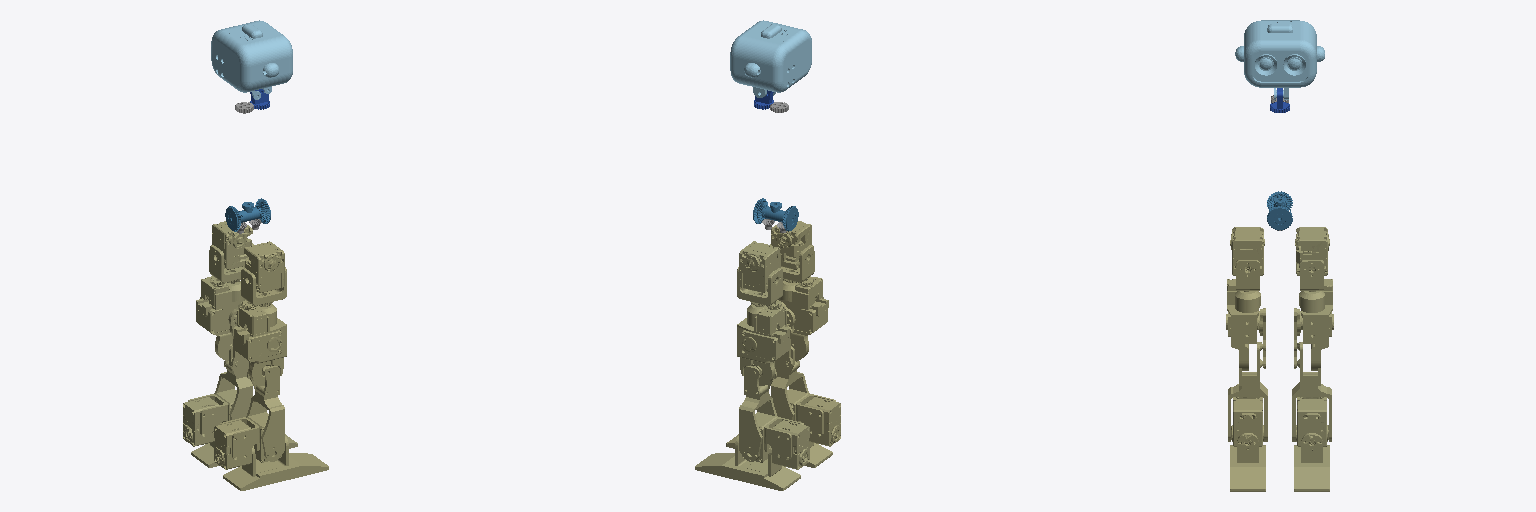
--- What the picture shows (computed from the rendered views, not written in the file) ---
Views: 3 orthographic renders of the robot side by side, from view 1: azimuth 30°, elevation 25°; view 2: azimuth 150°, elevation 25°; view 3: azimuth 270°, elevation 25°.
Robot: toddlerbot — 17 links, 16 joints (16 revolute); root link torso; default pose: all joints at 0.
Visible links, largest first — view 1: right_leg_reorder, left_leg_reorder, head, waist_gears; view 2: left_leg_reorder, right_leg_reorder, head, waist_gears; view 3: left_leg_reorder, right_leg_reorder, head, waist_gears.
Link boxes in pixels (bbox=[...]): right_leg_reorder: bbox=[214, 241, 328, 490]; left_leg_reorder: bbox=[183, 221, 297, 467]; head: bbox=[211, 20, 292, 92]; waist_gears: bbox=[225, 198, 270, 231]; left_leg_reorder: bbox=[695, 241, 809, 490]; right_leg_reorder: bbox=[726, 221, 840, 467]; head: bbox=[730, 20, 811, 97]; waist_gears: bbox=[753, 198, 798, 231]; left_leg_reorder: bbox=[1292, 227, 1333, 491]; right_leg_reorder: bbox=[1226, 227, 1267, 491]; head: bbox=[1235, 20, 1324, 99]; waist_gears: bbox=[1267, 191, 1292, 230].
Bounding box of the posed robot: 0.138 × 0.1251 × 0.5614 m (x, y, z).
13 mesh visuals loaded from 17 distinct referenced files (13 binary STL); not drawn: 4 (reference not matched to a file when rendering).

URDF robot description (toddlerbot):
<?xml version="1.0" ?><robot name="toddlerbot">  
  <link name="torso">    
    <visual>      
      <origin xyz="0 0 0" rpy="0 -0 0"/>      
      <geometry>        
        <mesh filename="package:///meshes/torso_visual.stl"/>        
      </geometry>      
      <material name="torso_material">        
        <color rgba="0.63761324738265878764 0.79140018897832431488 0.89744804913511877498 1.0"/>        
      </material>      
    </visual>    
    <collision>      
      <origin xyz="0 0 0" rpy="0 -0 0"/>      
      <geometry>        
        <mesh filename="package:///meshes/torso_collision.stl"/>        
      </geometry>      
    </collision>    
    <inertial>      
      <origin xyz="-0.0045319089141771552731 -0.0033046849194455856467 0.065594108502290693341" rpy="0 0 0"/>      
      <mass value="1.1369659631012025702"/>      
      <inertia ixx="0.0029825917743578666055" ixy="8.1730614288441110122e-05" ixz="2.1951370741857685305e-05" iyy="0.0023969506399989372152" iyz="-2.9575017351927617657e-05" izz="0.0025126356523908575241"/>      
    </inertial>    
  </link>  

  <link name="spur_1m_20t">    
    <visual>      
      <origin xyz="0 0 0" rpy="0 -0 0"/>      
      <geometry>        
        <mesh filename="package:///meshes/spur_1m_20t_visual.stl"/>        
      </geometry>      
      <material name="spur_1m_20t_material">        
        <color rgba="0.64705882352941179736 0.64705882352941179736 0.64705882352941179736 1.0"/>        
      </material>      
    </visual>    
    <collision>      
      <origin xyz="0 0 0" rpy="0 -0 0"/>      
      <geometry>        
        <mesh filename="package:///meshes/spur_1m_20t_collision.stl"/>        
      </geometry>      
    </collision>    
    <inertial>      
      <origin xyz="-2.9273600019542193503e-19 -8.407168954226882874e-18 0.003384232105434467619" rpy="0 0 0"/>      
      <mass value="0.0015778025963745997712"/>      
      <inertia ixx="4.5874424196602084909e-08" ixy="3.9290914639085633501e-24" ixz="-7.1097175513400442172e-39" iyy="4.5874424196602058439e-08" iyz="7.8419015231486113446e-38" izz="8.1737050837173876176e-08"/>      
    </inertial>    
  </link>  

  <joint name="neck_yaw_drive" type="revolute">    
    <origin xyz="-0.0049999999999995221878 3.1860588521011854095e-18 0.12148651076281755112" rpy="1.1607298201443905188e-14 1.6509758832059179101e-15 -5.3832337592600790636e-15"/>    
    <parent link="torso"/>    
    <child link="spur_1m_20t"/>    
    <axis xyz="0 0 1"/>    
    <limit effort="1" velocity="20" lower="-2.8797932657906435416" upper="2.8797932657906435416"/>    
    <joint_properties friction="0.0"/>    
  </joint>  

  <link name="neck_yaw_link_v2">    
    <visual>      
      <origin xyz="0 0 0" rpy="0 -0 0"/>      
      <geometry>        
        <mesh filename="package:///meshes/neck_yaw_link_v2_visual.stl"/>        
      </geometry>      
      <material name="neck_yaw_link_v2_material">        
        <color rgba="0.2313725490196078538 0.38039215686274507888 0.70588235294117662733 1.0"/>        
      </material>      
    </visual>    
    <collision>      
      <origin xyz="0 0 0" rpy="0 -0 0"/>      
      <geometry>        
        <mesh filename="package:///meshes/neck_yaw_link_v2_collision.stl"/>        
      </geometry>      
    </collision>    
    <inertial>      
      <origin xyz="-1.1403990895369493244e-06 -1.1841855614897924462e-10 0.0082571849701004972066" rpy="0 0 0"/>      
      <mass value="0.0067298837334394089049"/>      
      <inertia ixx="5.2266067624768086445e-07" ixy="-6.3046403327810586846e-15" ixz="1.1949403084466817268e-09" iyy="6.1218519979556588152e-07" iyz="-2.6012871962819705841e-15" izz="2.8062851709981924551e-07"/>      
    </inertial>    
  </link>  

  <link name="head">    
    <visual>      
      <origin xyz="0 0 0" rpy="0 -0 0"/>      
      <geometry>        
        <mesh filename="package:///meshes/head_visual.stl"/>        
      </geometry>      
      <material name="head_material">        
        <color rgba="0.62873939703496806164 0.79364291305093481732 0.87330110949792516539 1.0"/>        
      </material>      
    </visual>    
    <collision>      
      <origin xyz="0 0 0" rpy="0 -0 0"/>      
      <geometry>        
        <mesh filename="package:///meshes/head_collision.stl"/>        
      </geometry>      
    </collision>    
    <inertial>      
      <origin xyz="-0.045316002313821462932 -0.011276855645191824137 -0.0010251236602530945652" rpy="0 0 0"/>      
      <mass value="0.13722101760550831084"/>      
      <inertia ixx="0.000118808072940447212" ixy="1.1390016804751208719e-06" ixz="1.8378816154934639505e-06" iyy="0.00010489076115432989294" iyz="-9.2536559812160098181e-06" izz="9.1894624061612158465e-05"/>      
    </inertial>    
  </link>  

  <link name="motor_plate">    
    <visual>      
      <origin xyz="0 0 0" rpy="0 -0 0"/>      
      <geometry>        
        <mesh filename="package:///meshes/motor_plate_visual.stl"/>        
      </geometry>      
      <material name="motor_plate_material">        
        <color rgba="0.64705882352941179736 0.64705882352941179736 0.64705882352941179736 1.0"/>        
      </material>      
    </visual>    
    <collision>      
      <origin xyz="0 0 0" rpy="0 -0 0"/>      
      <geometry>        
        <mesh filename="package:///meshes/motor_plate_collision.stl"/>        
      </geometry>      
    </collision>    
    <inertial>      
      <origin xyz="-6.9388939039072283776e-18 -1.3877787807814456755e-17 -0.0028281768943845498818" rpy="0 0 0"/>      
      <mass value="0.0017000000000000001221"/>      
      <inertia ixx="4.805029073310371698e-08" ixy="1.0773753257370504076e-09" ixz="-3.1068233712543829119e-36" iyy="5.1782428339099010347e-08" iyz="8.7873943139860781386e-38" izz="9.2194729037862249329e-08"/>      
    </inertial>    
  </link>  

  <link name="bearing_683">    
    <visual>      
      <origin xyz="0 0 0" rpy="0 -0 0"/>      
      <geometry>        
        <mesh filename="package:///meshes/bearing_683_visual.stl"/>        
      </geometry>      
      <material name="bearing_683_material">        
        <color rgba="0.64705882352941179736 0.64705882352941179736 0.64705882352941179736 1.0"/>        
      </material>      
    </visual>    
    <collision>      
      <origin xyz="0 0 0" rpy="0 -0 0"/>      
      <geometry>        
        <mesh filename="package:///meshes/bearing_683_collision.stl"/>        
      </geometry>      
    </collision>    
    <inertial>      
      <origin xyz="1.3985108750766809383e-17 2.4186774283164997703e-19 -0.0015499999999999995118" rpy="0 0 0"/>      
      <mass value="0.00048694686130641793437"/>      
      <inertia ixx="2.1551456503319895657e-09" ixy="2.9047882901138312047e-26" ixz="-1.1228933808335255921e-37" iyy="2.1551456503319883249e-09" iyz="-1.3368752562953336429e-37" izz="3.5303647444715322361e-09"/>      
    </inertial>    
  </link>  

  <joint name="neck_pitch_front_rev_2" type="revolute">    
    <origin xyz="-0.0019411428382689055461 -0.0072444436971680192111 -0.0055000000000000005482" rpy="1.0718125710358602429e-14 -4.311384292830508141e-15 0.88076594287798393168"/>    
    <parent link="motor_plate"/>    
    <child link="bearing_683"/>    
    <axis xyz="0 0 1"/>    
    <limit effort="1" velocity="20" lower="-6.283185307179586232" upper="6.283185307179586232"/>    
    <joint_properties friction="0.0"/>    
  </joint>  

  <link name="bearing_683_2">    
    <visual>      
      <origin xyz="0 0 0" rpy="0 -0 0"/>      
      <geometry>        
        <mesh filename="package:///meshes/bearing_683_2_visual.stl"/>        
      </geometry>      
      <material name="bearing_683_2_material">        
        <color rgba="0.64705882352941179736 0.64705882352941179736 0.64705882352941179736 1.0"/>        
      </material>      
    </visual>    
    <collision>      
      <origin xyz="0 0 0" rpy="0 -0 0"/>      
      <geometry>        
        <mesh filename="package:///meshes/bearing_683_2_collision.stl"/>        
      </geometry>      
    </collision>    
    <inertial>      
      <origin xyz="1.3985108750766830954e-17 2.4186774283160303249e-19 -0.0015499999999999990782" rpy="0 0 0"/>      
      <mass value="0.00048694686130641793437"/>      
      <inertia ixx="2.1551456503319879113e-09" ixy="-2.1975945182776963045e-25" ixz="-2.7042340431588615727e-39" iyy="2.1551456503319883249e-09" iyz="2.2478231163415180367e-39" izz="3.5303647444715305817e-09"/>      
    </inertial>    
  </link>  

  <joint name="neck_pitch_back_rev_2" type="revolute">    
    <origin xyz="0.0019411428382688777905 0.007244443697168007068 -0.0055000000000000014155" rpy="-2.5111971789710972494e-13 -1.8026647498047445117e-13 0.87787101658584032471"/>    
    <parent link="motor_plate"/>    
    <child link="bearing_683_2"/>    
    <axis xyz="0 0 1"/>    
    <limit effort="1" velocity="20" lower="-6.283185307179586232" upper="6.283185307179586232"/>    
    <joint_properties friction="0.0"/>    
  </joint>  

  <joint name="neck_pitch_act" type="revolute">    
    <origin xyz="-0.032615697718560709983 -0.027000000000000058675 0.0024999999999998486974" rpy="-3.1415926535897655825 -3.1199051560142798919e-13 -3.141592653589449835"/>    
    <parent link="head"/>    
    <child link="motor_plate"/>    
    <axis xyz="0 0 1"/>    
    <limit effort="1" velocity="20" lower="-1.3962634015954635824" upper="0.61086523819801530344"/>    
    <joint_properties friction="0.0"/>    
  </joint>  

  <joint name="neck_pitch" type="revolute">    
    <origin xyz="-1.1796119636642288242e-16 0.0040000000000001215139 0.019400000000000056088" rpy="-1.5707963267904627713 1.5671692223466835436 -3.1415926535886637971"/>    
    <parent link="neck_yaw_link_v2"/>    
    <child link="head"/>    
    <axis xyz="0 0 1"/>    
    <limit effort="1" velocity="20" lower="-1.3962634015954635824" upper="0.61086523819801530344"/>    
    <joint_properties friction="0.0"/>    
  </joint>  

  <link name="neck_rod">    
    <visual>      
      <origin xyz="0 0 0" rpy="0 -0 0"/>      
      <geometry>        
        <mesh filename="package:///meshes/neck_rod_visual.stl"/>        
      </geometry>      
      <material name="neck_rod_material">        
        <color rgba="0.62051618944235187314 0.78640765248647570562 0.88594253031295011613 1.0"/>        
      </material>      
    </visual>    
    <collision>      
      <origin xyz="0 0 0" rpy="0 -0 0"/>      
      <geometry>        
        <mesh filename="package:///meshes/neck_rod_collision.stl"/>        
      </geometry>      
    </collision>    
    <inertial>      
      <origin xyz="0.017942953356019489264 -4.2302323070087306963e-05 -0.0016023848482628068844" rpy="0 0 0"/>      
      <mass value="0.0031629468613064174939"/>      
      <inertia ixx="1.6183187611801101548e-08" ixy="4.3686324090029618003e-10" ixz="5.4098718288322473511e-10" iyy="7.9430220338147421456e-07" iyz="-1.2754318974832872697e-12" izz="8.0573905690508686904e-07"/>      
    </inertial>    
  </link>  

  <joint name="neck_pitch_front_rev_1" type="revolute">    
    <origin xyz="-0.0072444436971684355447 -0.0040000000000001197792 0.017458857161731233809" rpy="1.5707963267946454256 -0.88439304732584833602 -3.1415926535894400651"/>    
    <parent link="neck_yaw_link_v2"/>    
    <child link="neck_rod"/>    
    <axis xyz="0 0 1"/>    
    <limit effort="1" velocity="20" lower="-6.283185307179586232" upper="6.283185307179586232"/>    
    <joint_properties friction="0.0"/>    
  </joint>  

  <link name="neck_rod_2">    
    <visual>      
      <origin xyz="0 0 0" rpy="0 -0 0"/>      
      <geometry>        
        <mesh filename="package:///meshes/neck_rod_2_visual.stl"/>        
      </geometry>      
      <material name="neck_rod_2_material">        
        <color rgba="0.62051618944235187314 0.78640765248647570562 0.88594253031295011613 1.0"/>        
      </material>      
    </visual>    
    <collision>      
      <origin xyz="0 0 0" rpy="0 -0 0"/>      
      <geometry>        
        <mesh filename="package:///meshes/neck_rod_2_collision.stl"/>        
      </geometry>      
    </collision>    
    <inertial>      
      <origin xyz="0.017901072327984525467 4.2302323074025779774e-05 -0.0016023848482717029801" rpy="0 0 0"/>      
      <mass value="0.0031629468613064174939"/>      
      <inertia ixx="1.6183187611802534225e-08" ixy="-4.3584354918256844597e-10" ixz="5.3972445329300678928e-10" iyy="7.9343818800628575981e-07" iyz="1.2754318717552505803e-12" izz="8.0487504152986580352e-07"/>      
    </inertial>    
  </link>  

  <joint name="neck_pitch_back_rev_1" type="revolute">    
    <origin xyz="0.0072444436971682013571 -0.0040000000000001362591 0.021341142838269100412" rpy="1.5707963267949220931 -0.8814981210337055062 3.1415926535897904515"/>    
    <parent link="neck_yaw_link_v2"/>    
    <child link="neck_rod_2"/>    
    <axis xyz="0 0 1"/>    
    <limit effort="1" velocity="20" lower="-6.283185307179586232" upper="6.283185307179586232"/>    
    <joint_properties friction="0.0"/>    
  </joint>  

  <joint name="neck_yaw_driven" type="revolute">    
    <origin xyz="0.016000000000000621364 3.9122381713629107253e-19 0.12248651076281739936" rpy="1.5470695466536949876e-14 -3.0902695541116811913e-15 -8.6007558735577539147e-16"/>    
    <parent link="torso"/>    
    <child link="neck_yaw_link_v2"/>    
    <axis xyz="0 0 1"/>    
    <limit effort="1" velocity="20" lower="-2.6179938779914944114" upper="2.6179938779914944114"/>    
    <joint_properties friction="0.0"/>    
  </joint>  

  <link name="waist_gears">    
    <visual>      
      <origin xyz="0 0 0" rpy="0 -0 0"/>      
      <geometry>        
        <mesh filename="package:///meshes/waist_gears_visual.stl"/>        
      </geometry>      
      <material name="waist_gears_material">        
        <color rgba="0.29673072126509869584 0.50090014891145351328 0.63316042503557934396 1.0"/>        
      </material>      
    </visual>    
    <collision>      
      <origin xyz="0 0 0" rpy="0 -0 0"/>      
      <geometry>        
        <mesh filename="package:///meshes/waist_gears_collision.stl"/>        
      </geometry>      
    </collision>    
    <inertial>      
      <origin xyz="-2.9089024309418600146e-07 5.5035553755051287407e-08 -0.012592985430860502774" rpy="0 0 0"/>      
      <mass value="0.026337180140419174518"/>      
      <inertia ixx="1.5367047941033374527e-06" ixy="1.8828487088222486339e-11" ixz="4.0600521957845183714e-10" iyy="7.302471227545066429e-06" iyz="3.2911737843456854381e-12" izz="6.9859065635059637868e-06"/>      
    </inertial>    
  </link>  

  <link name="waist_link">    
    <visual>      
      <origin xyz="0 0 0" rpy="0 -0 0"/>      
      <geometry>        
        <mesh filename="package:///meshes/waist_link_visual.stl"/>        
      </geometry>      
      <material name="waist_link_material">        
        <color rgba="0.64205964988973096563 0.77112878115803895618 0.80455743168009152821 1.0"/>        
      </material>      
    </visual>    
    <collision>      
      <origin xyz="0 0 0" rpy="0 -0 0"/>      
      <geometry>        
        <mesh filename="package:///meshes/waist_link_collision.stl"/>        
      </geometry>      
    </collision>    
    <inertial>      
      <origin xyz="-3.4876747961162537906e-18 -0.024647143936897920186 -0.024243097328499937232" rpy="0 0 0"/>      
      <mass value="0.10819999998618363979"/>      
      <inertia ixx="4.747970073566886237e-05" ixy="-9.3811587245404559892e-21" ixz="-5.6250747314438818848e-09" iyy="9.6352172992785340951e-05" iyz="1.5514215856083487346e-06" izz="6.7249246473027323736e-05"/>      
    </inertial>    
  </link>  

  <link name="spiral_bevel_1m_14t_30deg">    
    <visual>      
      <origin xyz="0 0 0" rpy="0 -0 0"/>      
      <geometry>        
        <mesh filename="package:///meshes/spiral_bevel_1m_14t_30deg_visual.stl"/>        
      </geometry>      
      <material name="spiral_bevel_1m_14t_30deg_material">        
        <color rgba="0.64705882352941179736 0.64705882352941179736 0.64705882352941179736 1.0"/>        
      </material>      
    </visual>    
    <collision>      
      <origin xyz="0 0 0" rpy="0 -0 0"/>      
      <geometry>        
        <mesh filename="package:///meshes/spiral_bevel_1m_14t_30deg_collision.stl"/>        
      </geometry>      
    </collision>    
    <inertial>      
      <origin xyz="7.4971447279470481499e-10 7.1802237593121532518e-10 0.006686895501897913846" rpy="0 0 0"/>      
      <mass value="0.00073261524436595492574"/>      
      <inertia ixx="1.3495056019478195011e-08" ixy="4.0596682073457136067e-17" ixz="8.5992550143797901999e-16" iyy="1.3495056150237195634e-08" iyz="-6.791300821815703182e-16" izz="1.4355986549816401791e-08"/>      
    </inertial>    
  </link>  

  <joint name="waist_act_1" type="revolute">    
    <origin xyz="-1.0950768566580540919e-18 -0.019600000000000002837 -0.012749999999999995712" rpy="1.570796326794896558 1.1603771602431690682e-14 -3.1415926535897926719"/>    
    <parent link="waist_link"/>    
    <child link="spiral_bevel_1m_14t_30deg"/>    
    <axis xyz="0 0 1"/>    
    <limit effort="1" velocity="20" lower="-4.6774823953448034786" upper="4.6774823953448034786"/>    
    <joint_properties friction="0.0"/>    
  </joint>  

  <link name="spiral_bevel_1m_14t_30deg_2">    
    <visual>      
      <origin xyz="0 0 0" rpy="0 -0 0"/>      
      <geometry>        
        <mesh filename="package:///meshes/spiral_bevel_1m_14t_30deg_2_visual.stl"/>        
      </geometry>      
      <material name="spiral_bevel_1m_14t_30deg_2_material">        
        <color rgba="0.64705882352941179736 0.64705882352941179736 0.64705882352941179736 1.0"/>        
      </material>      
    </visual>    
    <collision>      
      <origin xyz="0 0 0" rpy="0 -0 0"/>      
      <geometry>        
        <mesh filename="package:///meshes/spiral_bevel_1m_14t_30deg_2_collision.stl"/>        
      </geometry>      
    </collision>    
    <inertial>      
      <origin xyz="3.6393117165689492509e-10 -9.7220472384390577147e-10 -0.0066868955018979155808" rpy="0 0 0"/>      
      <mass value="0.00073261524436595492574"/>      
      <inertia ixx="1.3495056012354480834e-08" ixy="2.5804135905735602914e-17" ixz="-1.069429604882048706e-15" iyy="1.3495056157360909811e-08" iyz="-2.3876736936216327369e-16" izz="1.43559865498164051e-08"/>      
    </inertial>    
  </link>  

  <joint name="waist_act_2" type="revolute">    
    <origin xyz="1.3488415323837299524e-18 -0.019599999999999995898 -0.032750000000000001332" rpy="-1.570796326794896558 2.1438338568776302255e-14 -3.141592653589793116"/>    
    <parent link="waist_link"/>    
    <child link="spiral_bevel_1m_14t_30deg_2"/>    
    <axis xyz="0 0 1"/>    
    <limit effort="1" velocity="20" lower="-4.6774823953448034786" upper="4.6774823953448034786"/>    
    <joint_properties friction="0.0"/>    
  </joint>  

  <link name="left_leg_reorder">    
    <visual>      
      <origin xyz="0 0 0" rpy="0 -0 0"/>      
      <geometry>        
        <mesh filename="package:///meshes/left_leg_reorder_visual.stl"/>        
      </geometry>      
      <material name="left_leg_reorder_material">        
        <color rgba="0.67653026596252763269 0.66851610566566932459 0.5118046884622382553 1.0"/>        
      </material>      
    </visual>    
    <collision>      
      <origin xyz="0 0 0" rpy="0 -0 0"/>      
      <geometry>        
        <mesh filename="package:///meshes/left_leg_reorder_collision.stl"/>        
      </geometry>      
    </collision>    
    <inertial>      
      <origin xyz="-0.14003533244388222112 0.0074816434689661832219 0.017702532858624001749" rpy="0 0 0"/>      
      <mass value="0.546053205592126778"/>      
      <inertia ixx="0.00027861717898135978169" ixy="0.00013407375792838453874" ixz="4.2427014236359357198e-05" iyy="0.0047236295394518105009" iyz="3.3456180902162216475e-06" izz="0.0048793523265396572877"/>      
    </inertial>    
  </link>  

  <joint name="left_hip_pitch" type="revolute">    
    <origin xyz="0.056000000000000015044 -0.040099999999999996758 -0.022750000000000002859" rpy="-1.570796326794896558 -1.2750103475622600987e-14 1.5707963267948956698"/>    
    <parent link="waist_link"/>    
    <child link="left_leg_reorder"/>    
    <axis xyz="0 0 1"/>    
    <limit effort="1" velocity="20" lower="-1.570796326794896558" upper="2.356194490192344837"/>    
    <joint_properties friction="0.0"/>    
  </joint>  

  <link name="right_leg_reorder">    
    <visual>      
      <origin xyz="0 0 0" rpy="0 -0 0"/>      
      <geometry>        
        <mesh filename="package:///meshes/right_leg_reorder_visual.stl"/>        
      </geometry>      
      <material name="right_leg_reorder_material">        
        <color rgba="0.6780141176317181495 0.6650225861008666195 0.50162016666551234589 1.0"/>        
      </material>      
    </visual>    
    <collision>      
      <origin xyz="0 0 0" rpy="0 -0 0"/>      
      <geometry>        
        <mesh filename="package:///meshes/right_leg_reorder_collision.stl"/>        
      </geometry>      
    </collision>    
    <inertial>      
      <origin xyz="-0.14090597371372412527 -0.0074810456244053611524 0.017759864717390928118" rpy="0 0 0"/>      
      <mass value="0.53305320559212687748"/>      
      <inertia ixx="0.00027583337265989546884" ixy="-0.00014442015043751723702" ixz="4.1713196684263363818e-05" iyy="0.0046962475176855218023" iyz="-4.9410665672427896733e-06" izz="0.0048511997479009395795"/>      
    </inertial>    
  </link>  

  <joint name="right_hip_pitch" type="revolute">    
    <origin xyz="-0.056000000000000008105 -0.040100000000000010636 -0.022750000000000002859" rpy="1.570796326794896558 -4.6471944491513544759e-14 1.570796326794871689"/>    
    <parent link="waist_link"/>    
    <child link="right_leg_reorder"/>    
    <axis xyz="0 0 1"/>    
    <limit effort="1" velocity="20" lower="-2.356194490192344837" upper="1.570796326794896558"/>    
    <joint_properties friction="0.0"/>    
  </joint>  

  <joint name="waist_roll" type="revolute">    
    <origin xyz="-0.022707865260689970299 5.0992894772045551448e-17 -0.013999999999999354974" rpy="1.5707963267948972241 -1.2860661478503099299e-14 -1.570796326794896558"/>    
    <parent link="waist_gears"/>    
    <child link="waist_link"/>    
    <axis xyz="0 0 1"/>    
    <limit effort="1" velocity="20" lower="-0.52359877559829881566" upper="0.52359877559829881566"/>    
    <joint_properties friction="0.0"/>    
  </joint>  

  <joint name="waist_yaw" type="revolute">    
    <origin xyz="0 -5.3903211409646476972e-18 3.4694469519597032089e-18" rpy="-8.7262726250677497581e-16 -3.9724428353914665044e-15 -3.1415926535897766847"/>    
    <parent link="torso"/>    
    <child link="waist_gears"/>    
    <axis xyz="0 0 1"/>    
    <limit effort="1" velocity="20" lower="-1.570796326794896558" upper="1.570796326794896558"/>    
    <joint_properties friction="0.0"/>    
  </joint>  

  <link name="left_arm_gripper">    
    <visual>      
      <origin xyz="0 0 0" rpy="0 -0 0"/>      
      <geometry>        
        <mesh filename="package:///meshes/left_arm_gripper_visual.stl"/>        
      </geometry>      
      <material name="left_arm_gripper_material">        
        <color rgba="0.71478780303500455418 0.8179628718393714415 0.87230604980696380135 1.0"/>        
      </material>      
    </visual>    
    <collision>      
      <origin xyz="0 0 0" rpy="0 -0 0"/>      
      <geometry>        
        <mesh filename="package:///meshes/left_arm_gripper_collision.stl"/>        
      </geometry>      
    </collision>    
    <inertial>      
      <origin xyz="-0.0019746660314624358765 0.109617181394094515 0.033696051741592944473" rpy="0 0 0"/>      
      <mass value="0.52042116458808618251"/>      
      <inertia ixx="0.003209524082348431083" ixy="7.0016245872938289861e-05" ixz="5.0731735621282141087e-06" iyy="0.00025041152058739895225" iyz="0.00010641626953588181946" izz="0.0032523701154431095862"/>      
    </inertial>    
  </link>  

  <joint name="left_sho_pitch" type="revolute">    
    <origin xyz="-0.0035000000000004437284 0.067000000000001058709 0.104236510762817286" rpy="-1.5707963267949092145 -4.1522341120980961897e-14 3.464089692039239269e-14"/>    
    <parent link="torso"/>    
    <child link="left_arm_gripper"/>    
    <axis xyz="0 0 1"/>    
    <limit effort="1" velocity="20" lower="-3.141592653589793116" upper="1.570796326794896558"/>    
    <joint_properties friction="0.0"/>    
  </joint>  

  <link name="right_arm_gripper">    
    <visual>      
      <origin xyz="0 0 0" rpy="0 -0 0"/>      
      <geometry>        
        <mesh filename="package:///meshes/right_arm_gripper_visual.stl"/>        
      </geometry>      
      <material name="right_arm_gripper_material">        
        <color rgba="0.71479482658733595191 0.81796331111759057464 0.87230200259414103492 1.0"/>        
      </material>      
    </visual>    
    <collision>      
      <origin xyz="0 0 0" rpy="0 -0 0"/>      
      <geometry>        
        <mesh filename="package:///meshes/right_arm_gripper_collision.stl"/>        
      </geometry>      
    </collision>    
    <inertial>      
      <origin xyz="0.0017712351941345950285 0.10961044652576736047 0.033703365927060247031" rpy="0 0 0"/>      
      <mass value="0.52038428376188905489"/>      
      <inertia ixx="0.0032091551606731492582" ixy="-9.1112179043615116355e-05" ixz="-4.8462420630839258073e-06" iyy="0.00025075576470972888322" iyz="0.00010605698159843219164" izz="0.0032524112322552395371"/>      
    </inertial>    
  </link>  

  <joint name="right_sho_pitch" type="revolute">    
    <origin xyz="-0.0034999999999986777799 -0.067000000000001072586 0.10423651076281732764" rpy="-1.5707963267948872321 3.624878175401132949e-14 -3.1415926535897562566"/>    
    <parent link="torso"/>    
    <child link="right_arm_gripper"/>    
    <axis xyz="0 0 1"/>    
    <limit effort="1" velocity="20" lower="-1.570796326794896558" upper="3.141592653589793116"/>    
    <joint_properties friction="0.0"/>    
  </joint>  


</robot>
